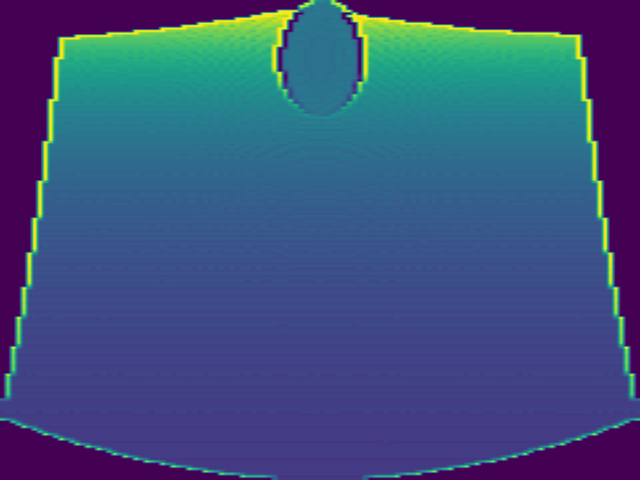sphere: (271, 1, 367, 117)
